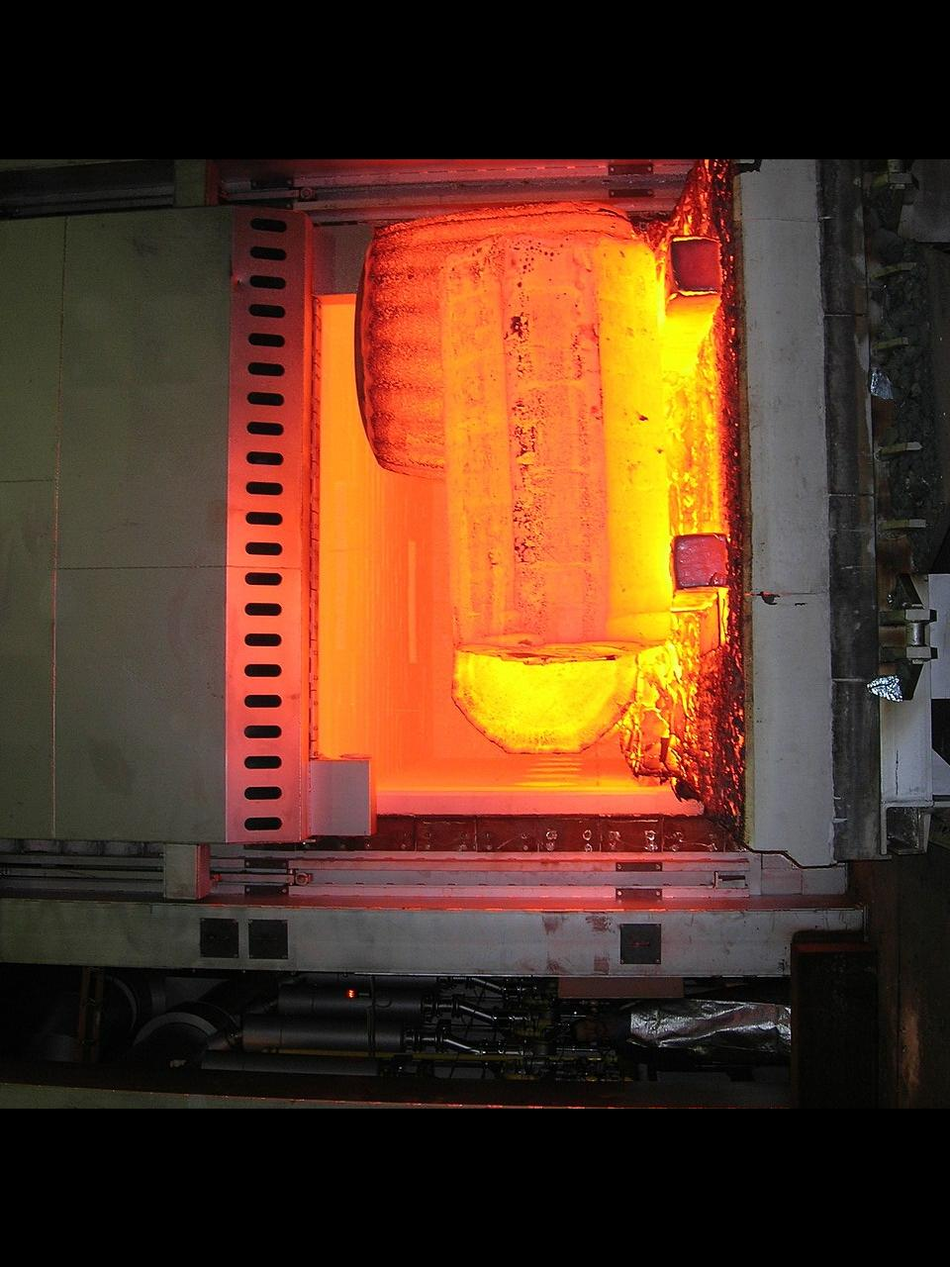controlled_fire: (117, 158, 787, 965)
